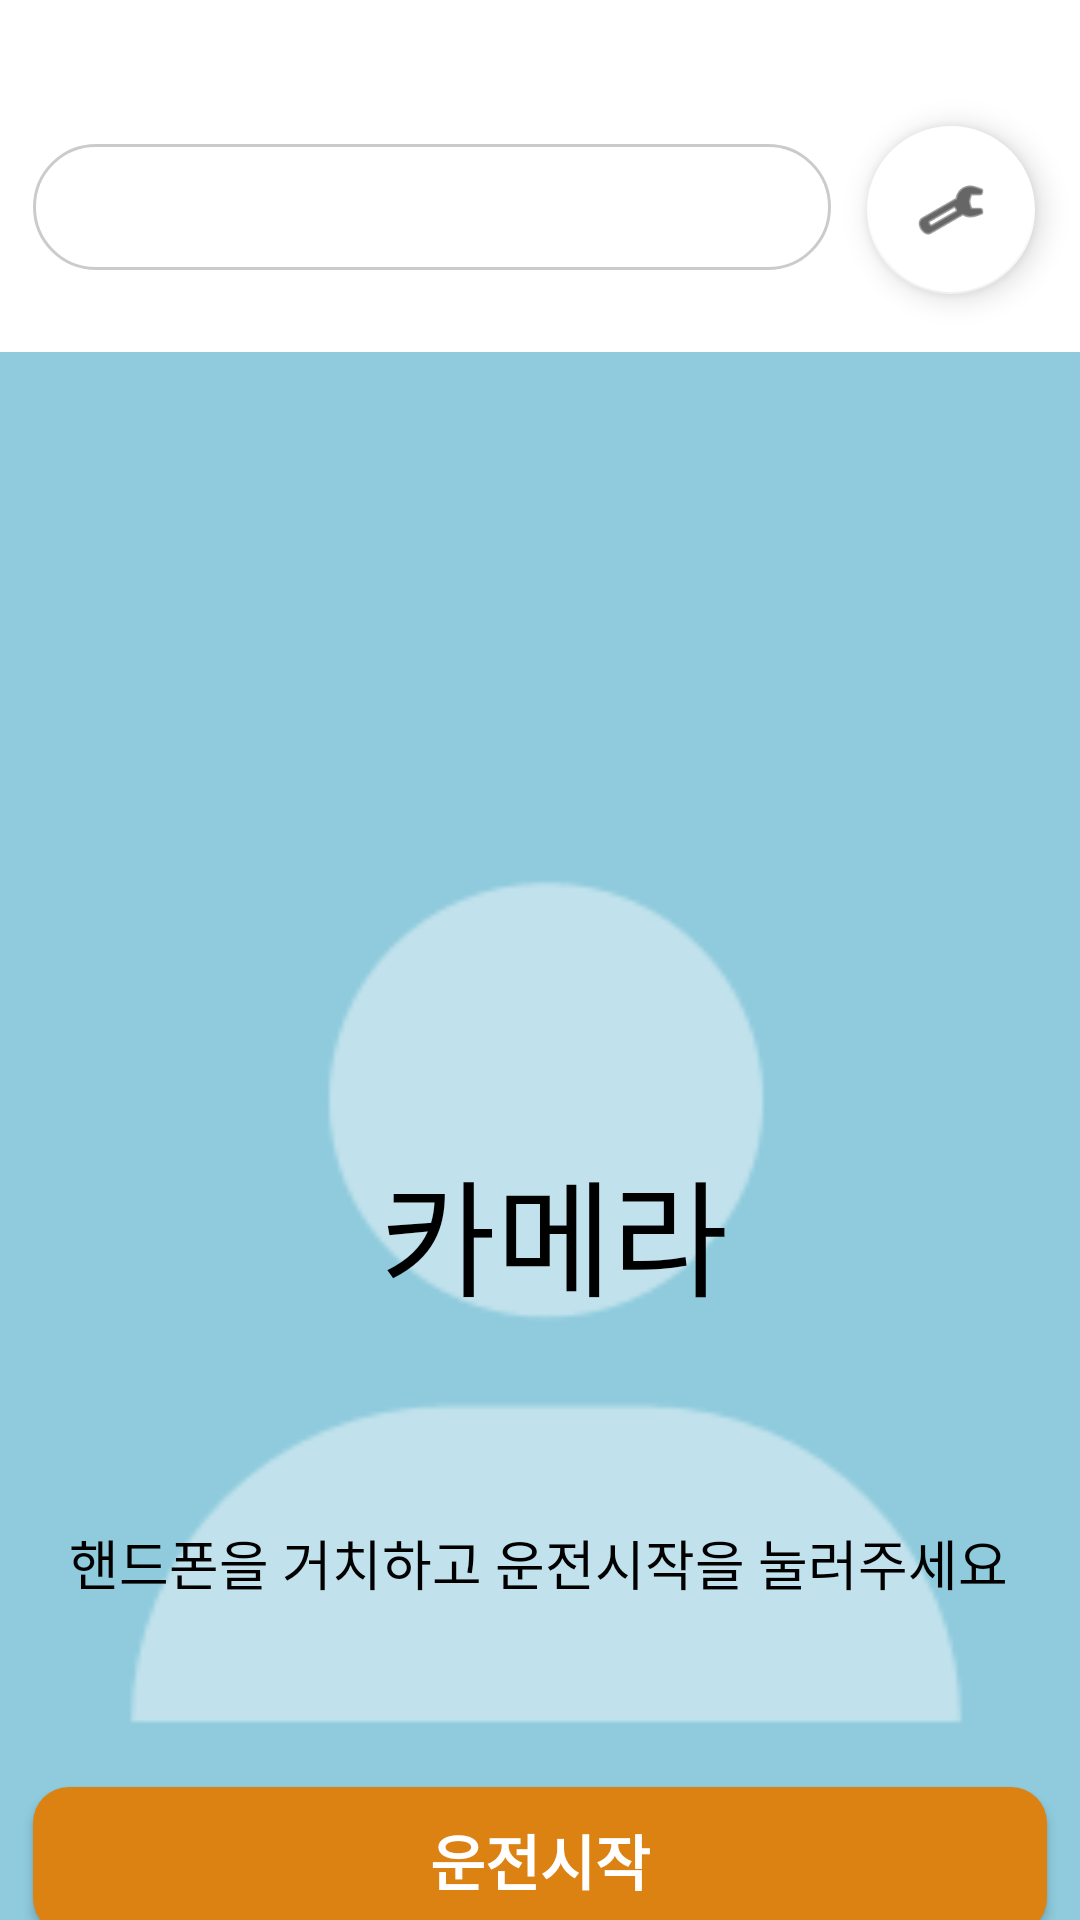

Icon bounding boxes for this 1080x1920 phone screenshot, format box(x1, y1, x2, y2):
preferences: box(918, 156, 1035, 294)
